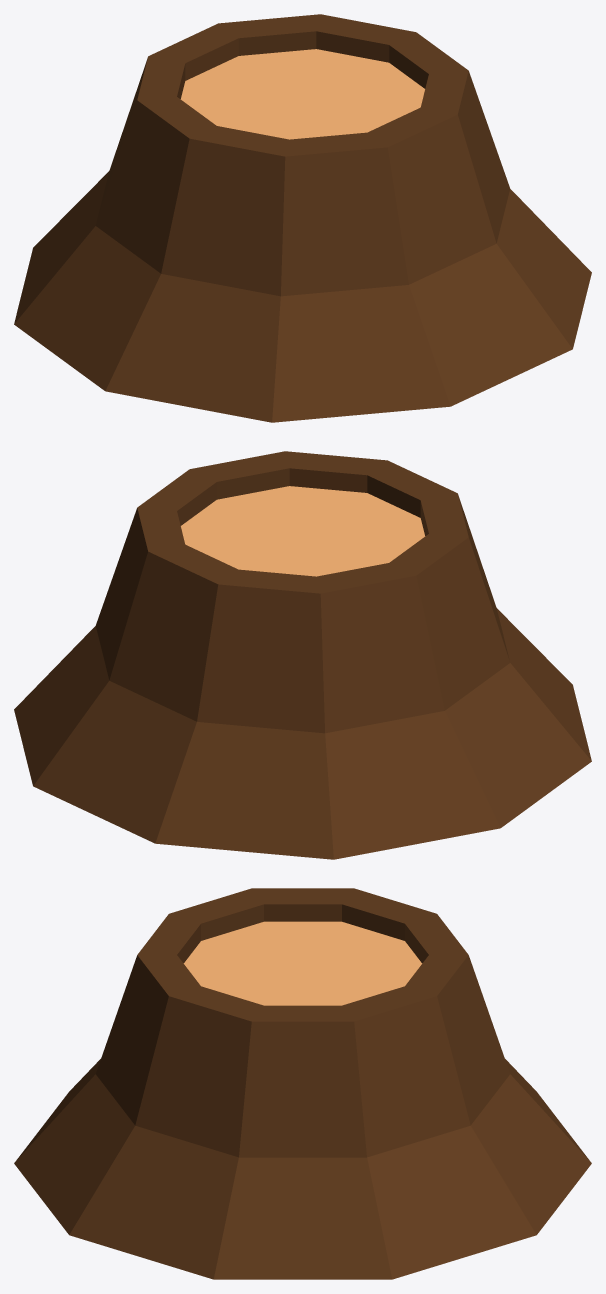
File: Trunk 1.fbx
The picture shows the model from 3 angles, top to bottom: view 1: azimuth 30°, elevation 25°; view 2: azimuth 150°, elevation 25°; view 3: azimuth 270°, elevation 25°; orthographic projection. The views are drawn at different scales.
Visible parts, largest first — view 1: Trunk; view 2: Trunk; view 3: Trunk.
Part boxes in pixels (x1,y1,x2,y2): Trunk: (14, 14, 591, 422); Trunk: (14, 451, 591, 859); Trunk: (14, 888, 591, 1279).
Size of the model in its own units: 1.29 by 0.5418 by 1.36.
